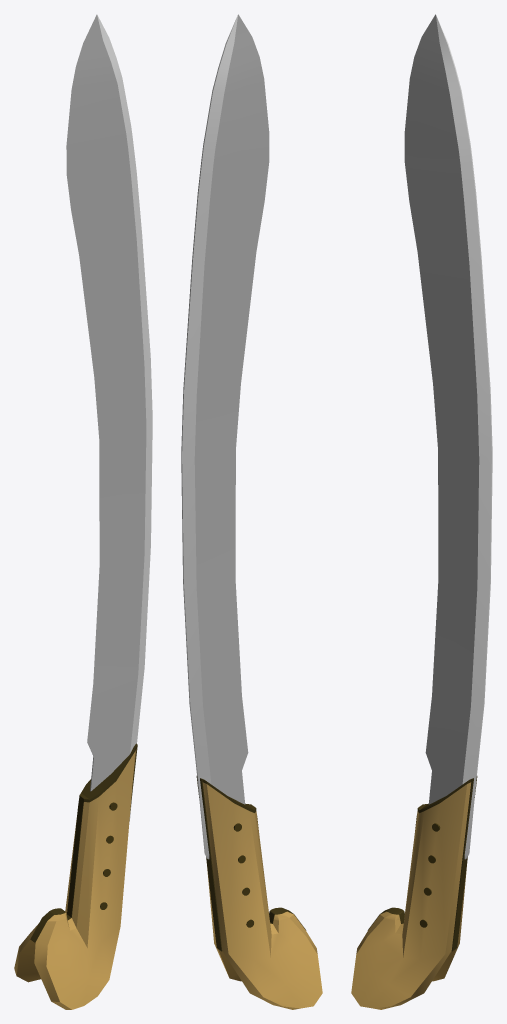
File: SM_Sword20_Yataghan_3Silver.fbx
The picture shows the model from 3 angles, left to right: view 1: azimuth 30°, elevation 25°; view 2: azimuth 210°, elevation 25°; view 3: azimuth 330°, elevation 25°; orthographic projection. The views are drawn at different scales.
Visible parts, largest first — view 1: Cube.365, Cylinder.474; view 2: Cube.365, Cylinder.474; view 3: Cube.365, Cylinder.474.
Boxes of the visible parts, x1=… form: Cube.365: x1=66, y1=14, x2=152, y2=821; Cylinder.474: x1=14, y1=743, x2=137, y2=1009; Cube.365: x1=181, y1=14, x2=269, y2=859; Cylinder.474: x1=196, y1=776, x2=322, y2=1009; Cube.365: x1=404, y1=14, x2=492, y2=859; Cylinder.474: x1=351, y1=776, x2=477, y2=1009.
Size of the model in its own units: 0.1037 by 0.7674 by 0.0706.
